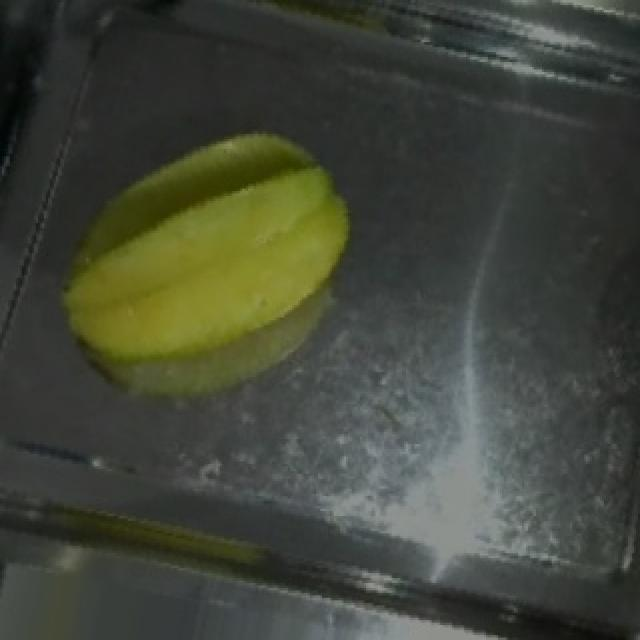fruit: (28, 89, 386, 437)
